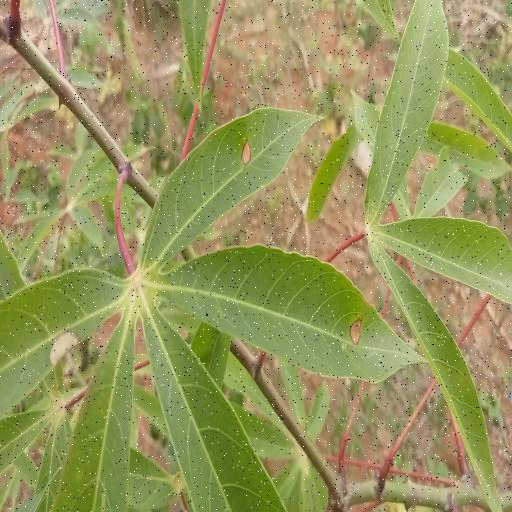Cassava_Brown_Leaf_Spot: (0, 102, 418, 512)
